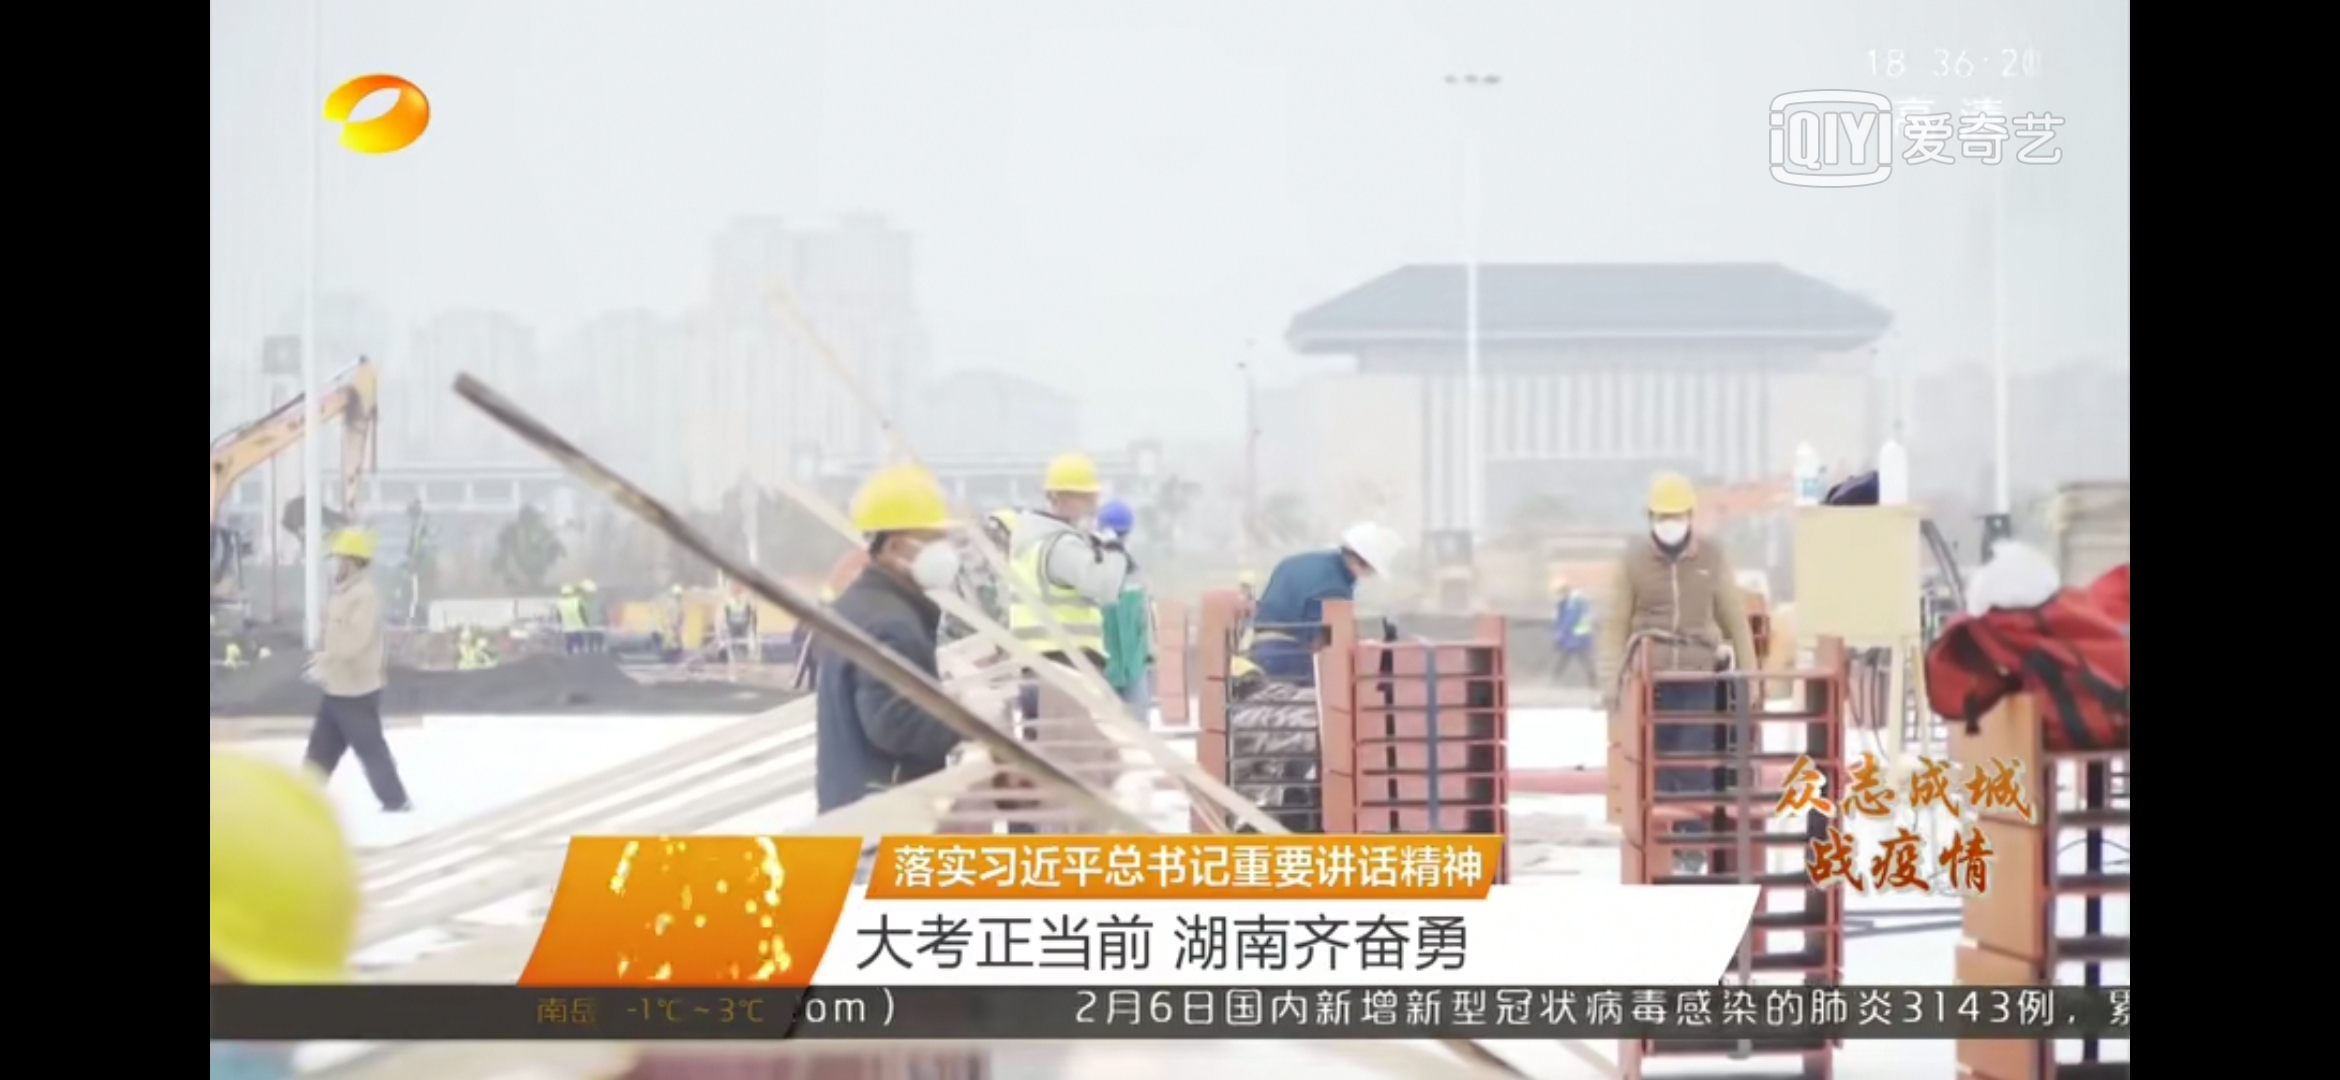correctlyWear: (883, 522, 958, 598), (1648, 509, 1698, 556), (330, 546, 352, 583)
